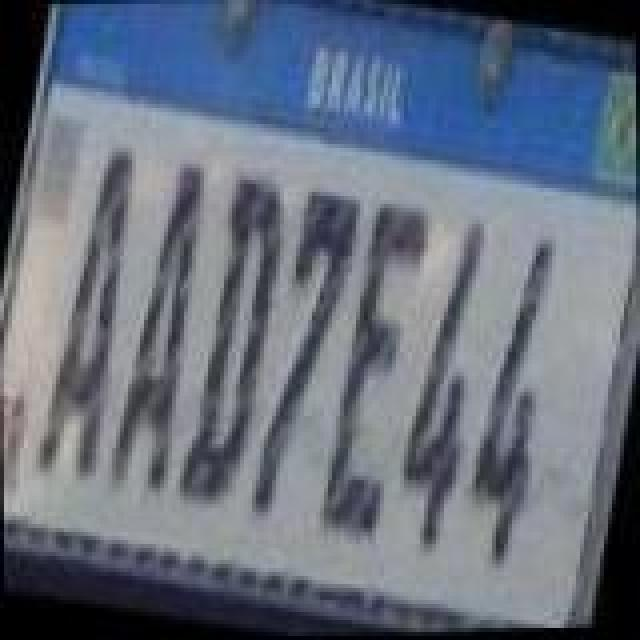4: (386, 218, 506, 550), (454, 232, 574, 564)
7: (242, 186, 366, 526)
A: (30, 144, 154, 484), (104, 152, 224, 496)
D: (168, 172, 296, 516)
E: (312, 198, 440, 546)
